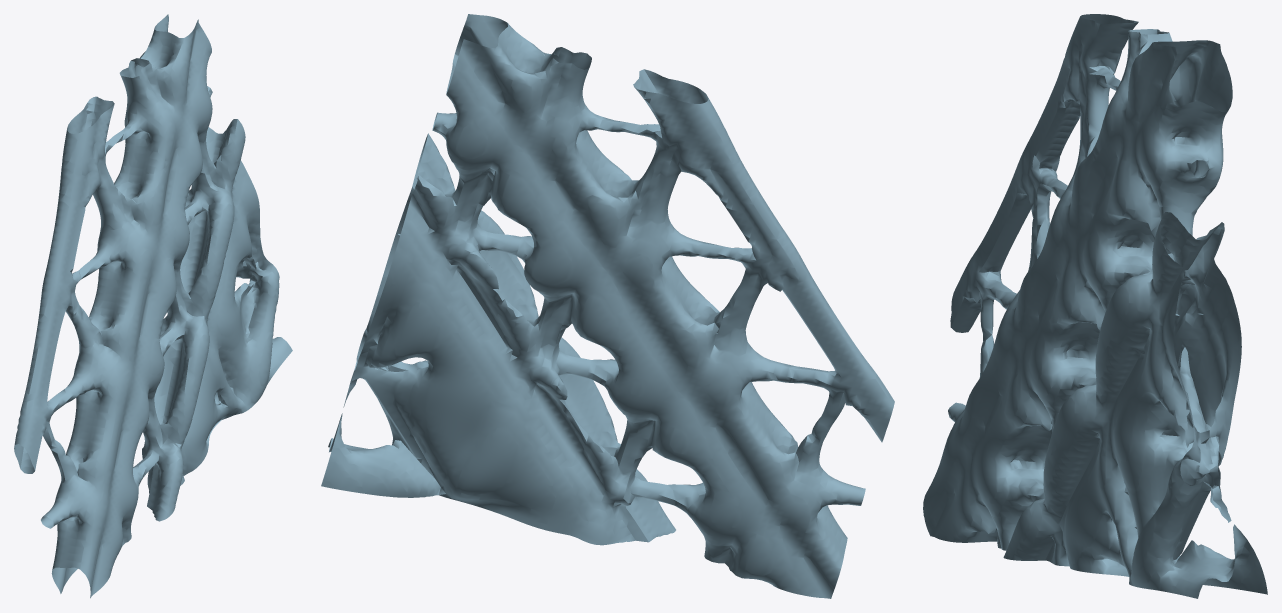
The model's file is detail.classical.diff_stress.p90.glb.
3 renders of one model, left to right at view 1: azimuth 30°, elevation 25°; view 2: azimuth 150°, elevation 25°; view 3: azimuth 270°, elevation 25°, orthographic. The views are drawn at different scales.
Visible parts, largest first — view 1: detail.classical.diff_stress.p90; view 2: detail.classical.diff_stress.p90; view 3: detail.classical.diff_stress.p90.
Boxes of the visible parts, x1,y1,x2,y2 form: detail.classical.diff_stress.p90: [14, 14, 292, 598]; detail.classical.diff_stress.p90: [321, 14, 894, 598]; detail.classical.diff_stress.p90: [923, 14, 1267, 598].
Size of the model in its own units: 1.61 by 1.98 by 0.989.
